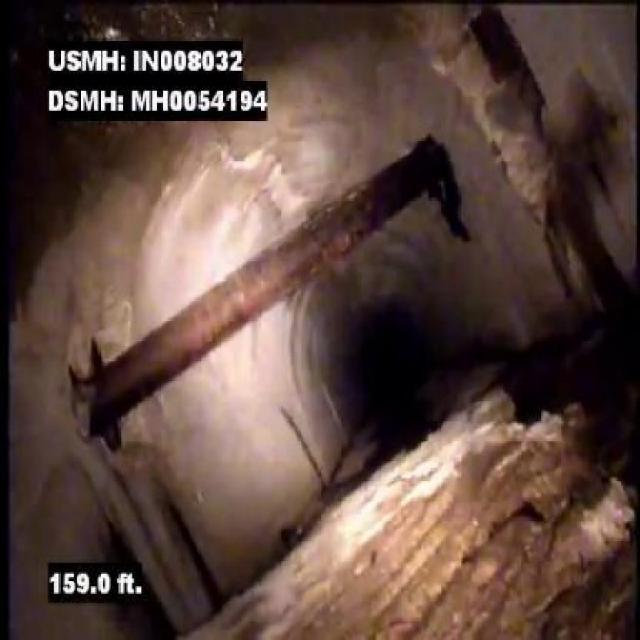Utility intrusion: (66, 128, 445, 418)
